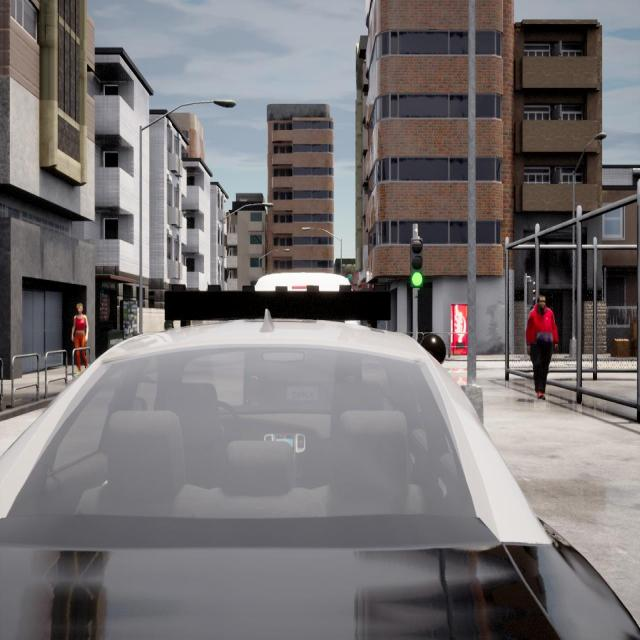Pedestrian: (526, 295, 558, 399), (72, 303, 88, 372)
Vehicle: (0, 318, 640, 638), (254, 273, 350, 292)
traffic_light: (411, 240, 423, 288), (528, 280, 536, 306)
